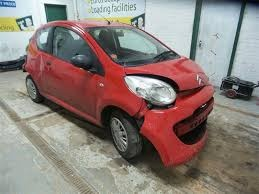Dent: (132, 92, 213, 159)
